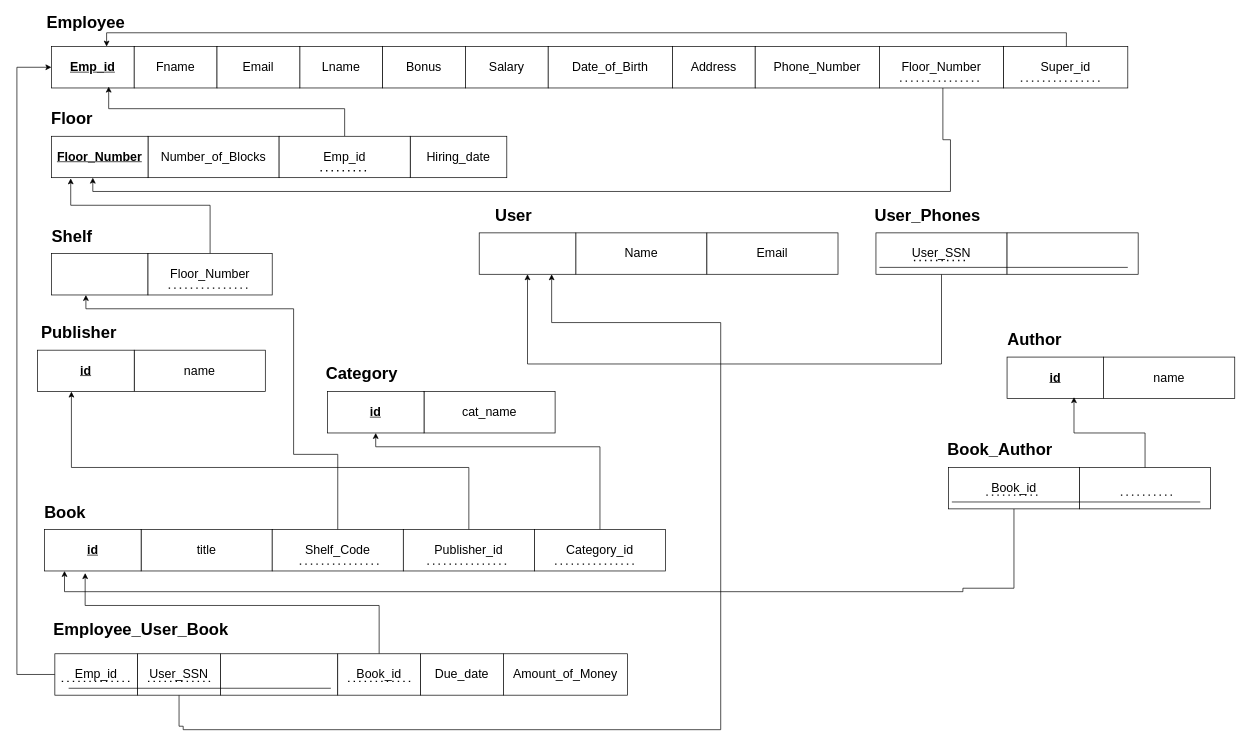
This 1247x747 diagram has some shape labels left out. The centre of each missing label's shape, as x and y in pixels:
"Author_id" belongs at (1145,488).
"Code" belongs at (99,274).
"Date_Borrowed" belongs at (279,674).
"Phone" belongs at (1072,253).
"SSN" belongs at (527,253).
